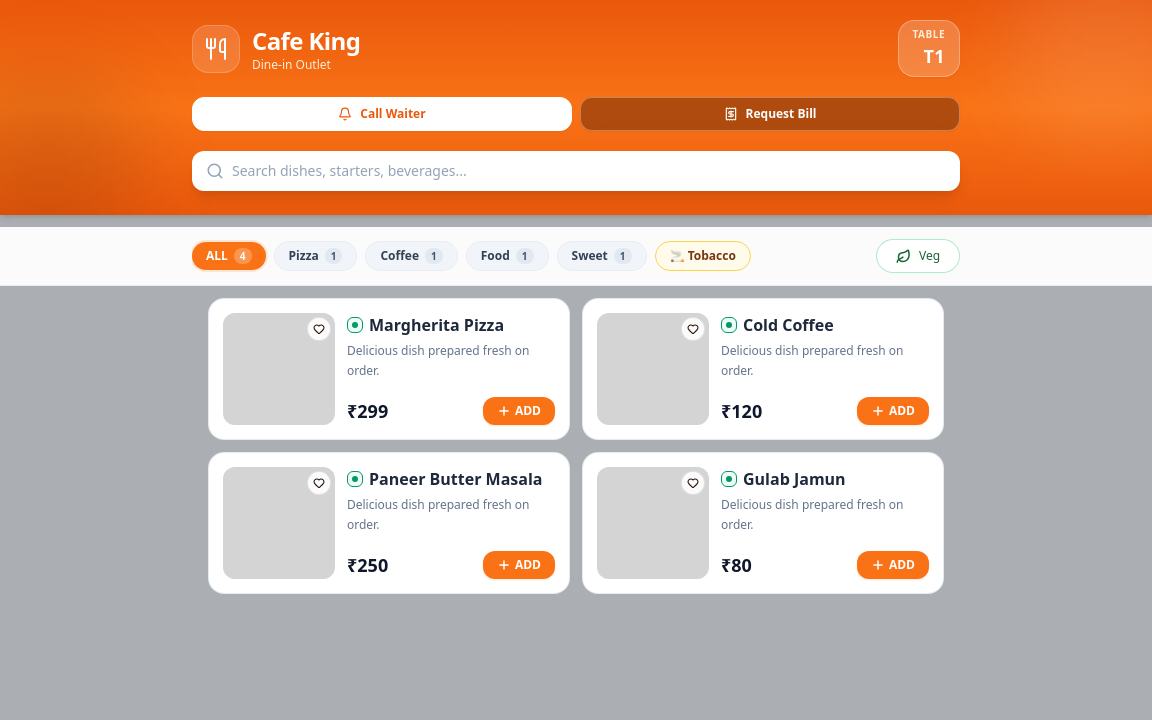
Scenario: Tobacco Separate Page & Flow Verification › G. Main menu search does not return tobacco items
Check: the heading "Cafe King" is shown, box 252,24 -> 360,56
Type "Gold" into the field with placeholder "Search dishes, starters, beverages..." at (576,171), box 192,151 -> 960,191
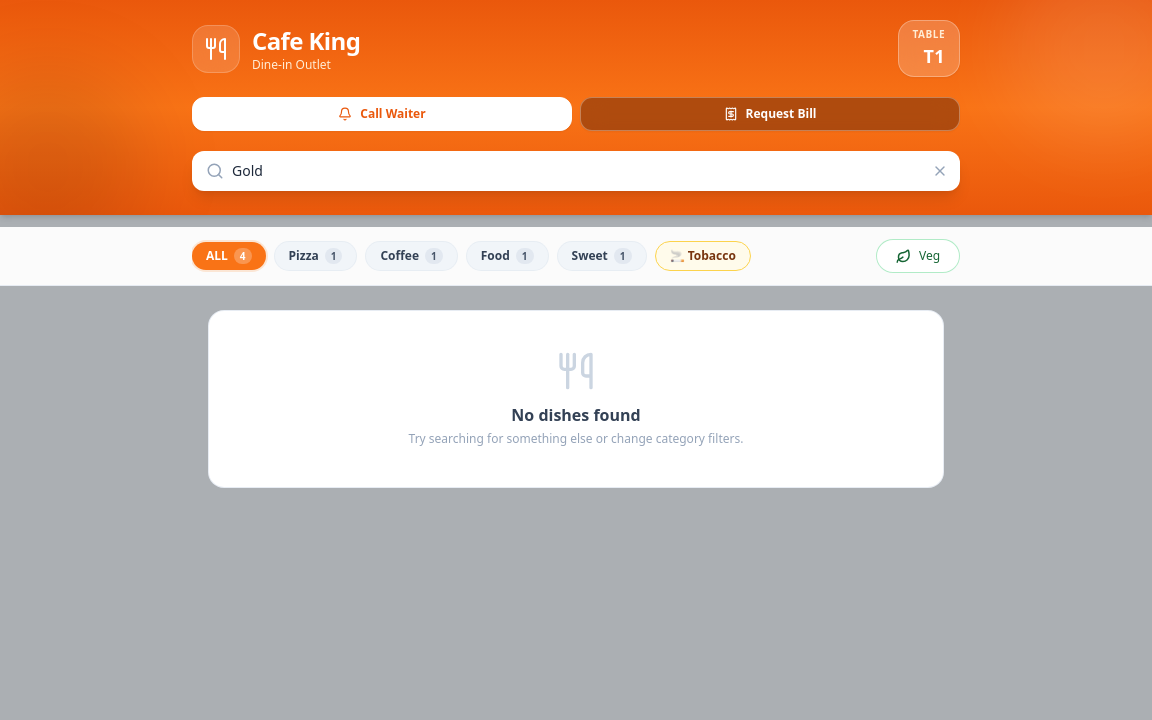
Check: the heading "No dishes found" is shown, box 511,404 -> 641,426
